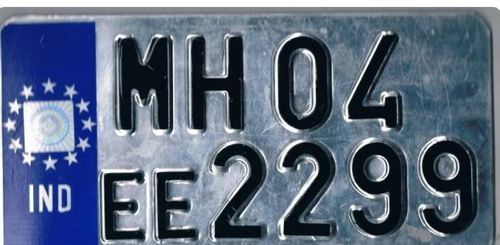number_plate: (6, 9, 495, 245)
